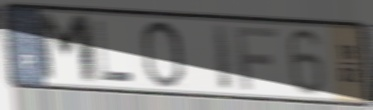6: (287, 26, 327, 98)
F: (232, 25, 280, 93)
I: (210, 21, 234, 93)
L: (93, 18, 136, 84)
M: (33, 10, 101, 87)
O: (139, 19, 187, 90)
